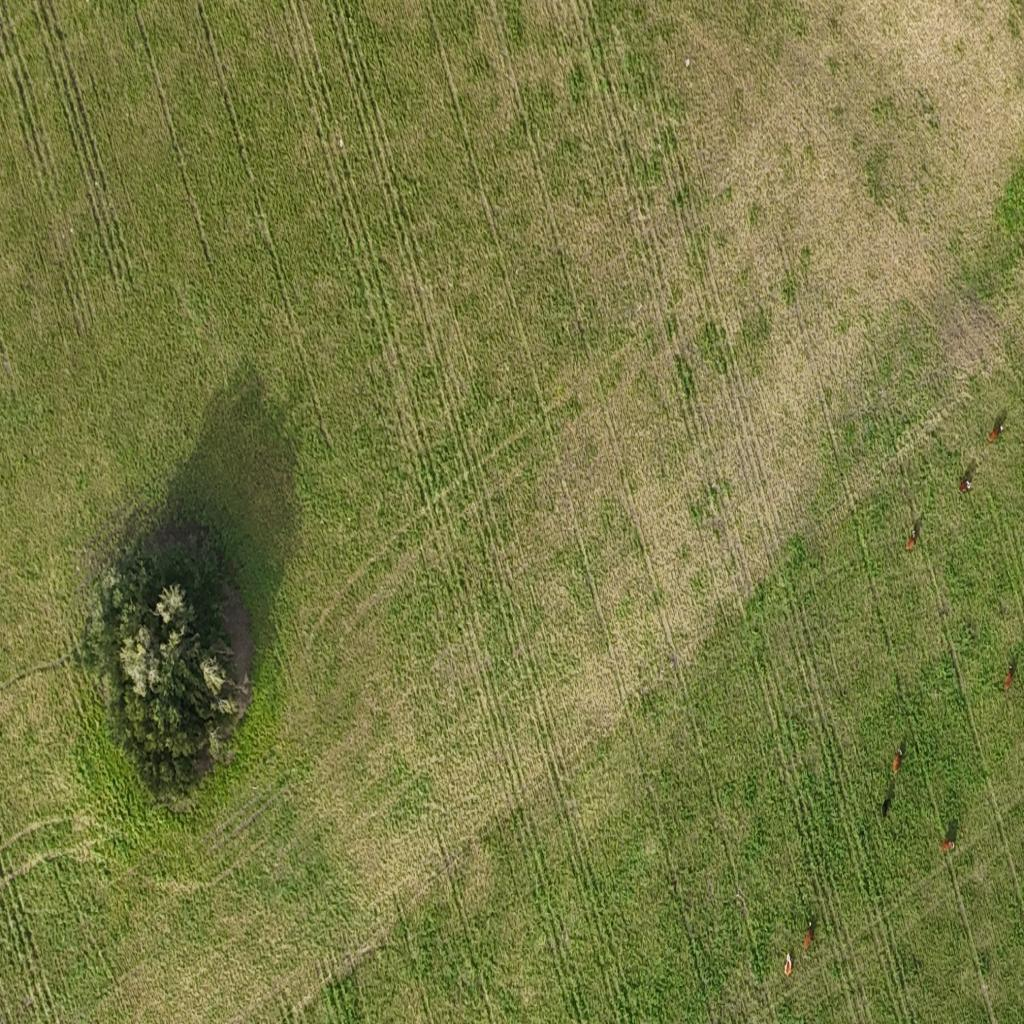cow: (804, 918, 816, 952), (892, 745, 904, 777), (1004, 658, 1016, 690), (782, 951, 795, 980), (882, 789, 894, 820), (906, 524, 918, 552), (959, 476, 972, 494), (940, 839, 954, 854), (988, 426, 1001, 442)
